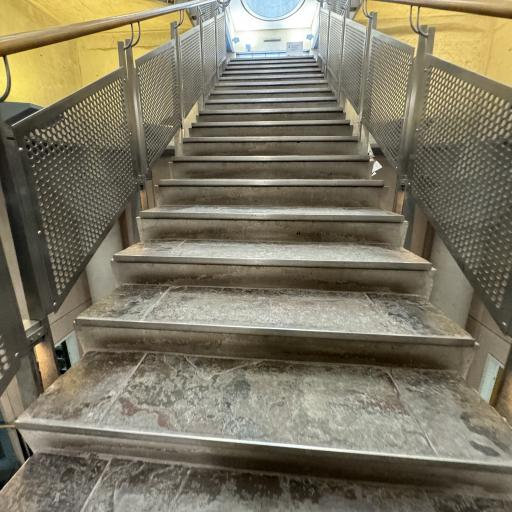Stairs: (12, 57, 512, 512), (17, 351, 512, 487), (0, 452, 512, 512), (112, 239, 432, 297), (189, 119, 353, 137)
